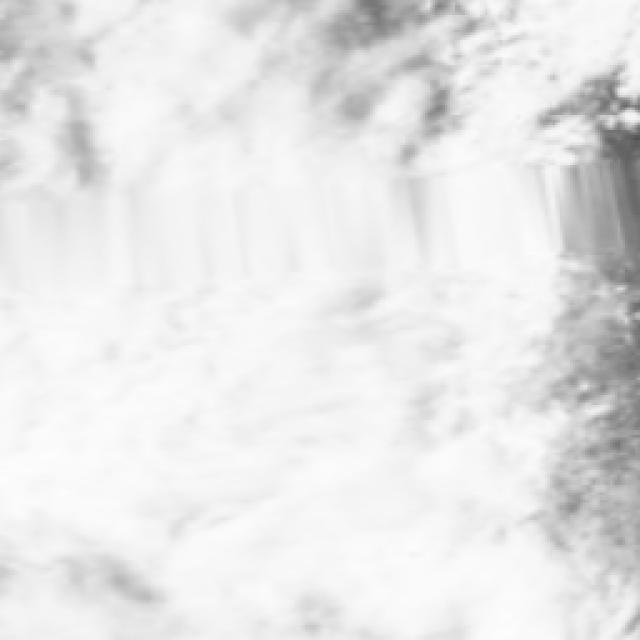CB: (122, 139, 357, 536), (177, 485, 468, 603)
